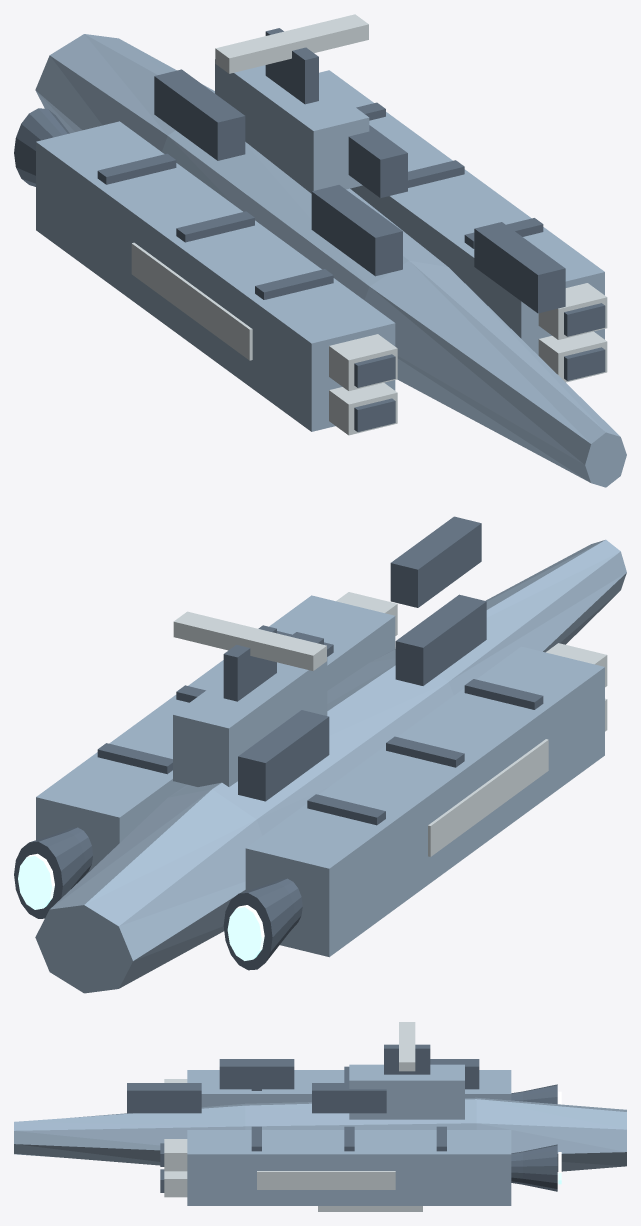
The picture shows the model from 3 angles, top to bottom: view 1: azimuth 30°, elevation 25°; view 2: azimuth 150°, elevation 25°; view 3: azimuth 270°, elevation 25°; orthographic projection. The views are drawn at different scales.
Size of the model in its own units: 6.52 by 5.13 by 19.71.
